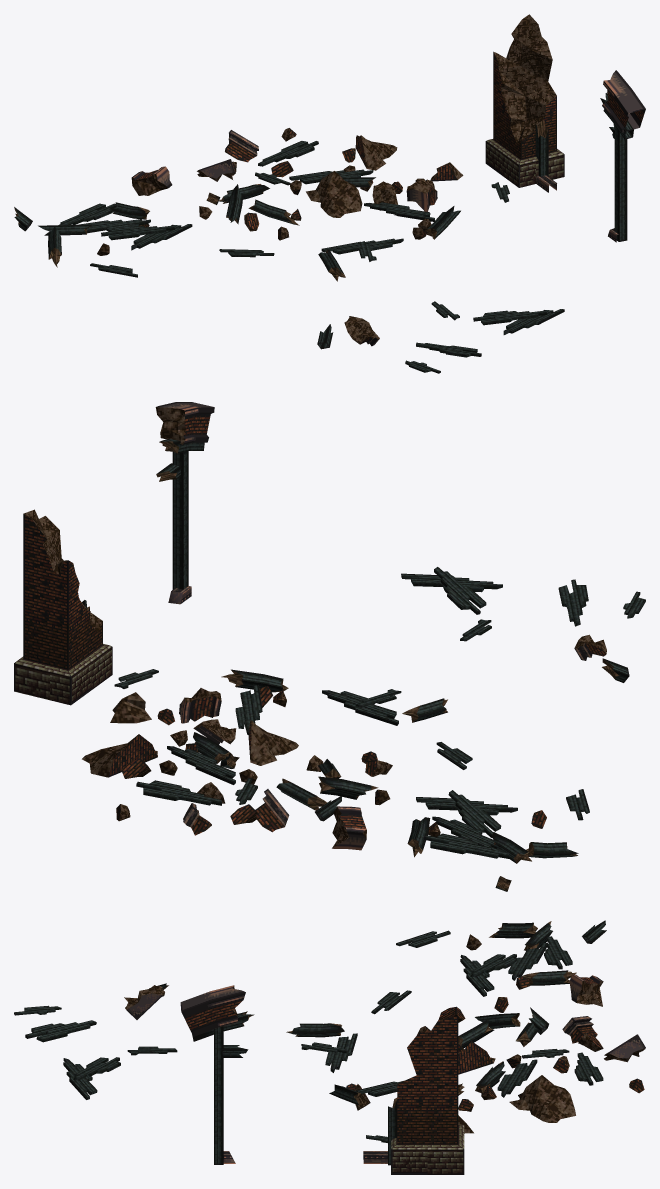
File: EnvBdgMD_Factory_B_Outdoor_Gate_A_Broken.FBX
3 renders of one model, top to bottom at view 1: azimuth 30°, elevation 25°; view 2: azimuth 150°, elevation 25°; view 3: azimuth 270°, elevation 25°, orthographic. The views are drawn at different scales.
Parts seen in each view (by area): view 1: EnvBdgMD_Factory_B_Outdoor_Gate_A_Broken; view 2: EnvBdgMD_Factory_B_Outdoor_Gate_A_Broken; view 3: EnvBdgMD_Factory_B_Outdoor_Gate_A_Broken.
Boxes of the visible parts, bbox=[...] form: EnvBdgMD_Factory_B_Outdoor_Gate_A_Broken: bbox=[14, 14, 645, 373]; EnvBdgMD_Factory_B_Outdoor_Gate_A_Broken: bbox=[14, 402, 645, 891]; EnvBdgMD_Factory_B_Outdoor_Gate_A_Broken: bbox=[14, 920, 645, 1174].
Size of the model in its own units: 1947 by 697 by 2069.
